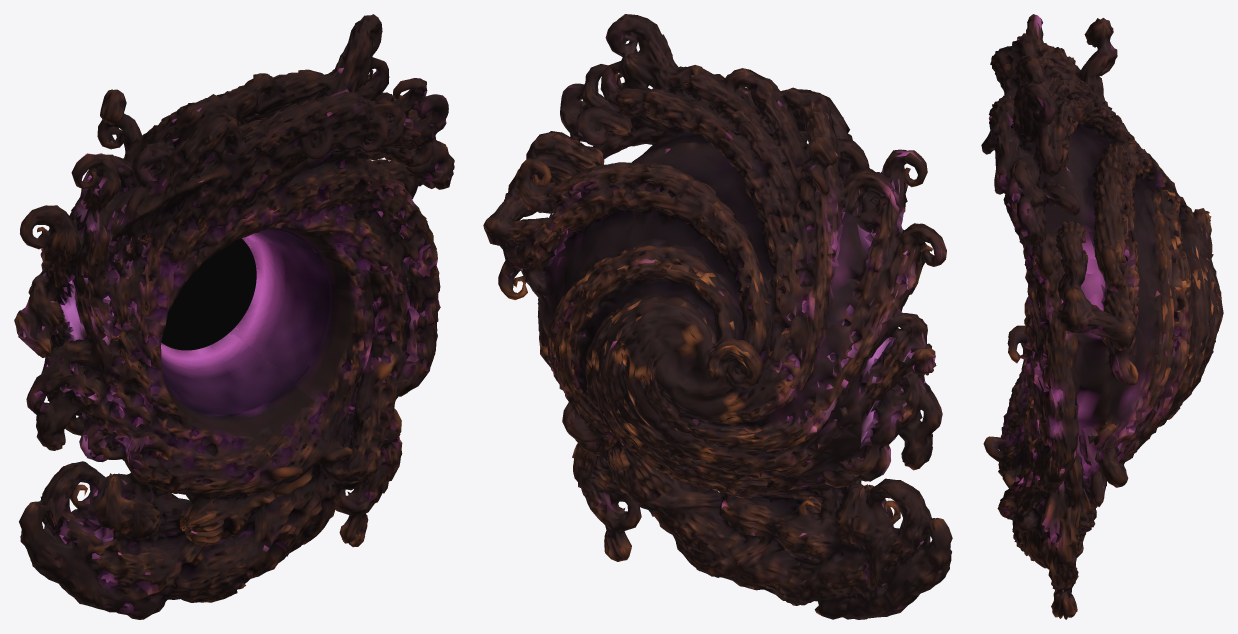
The picture shows the model from 3 angles, left to right: view 1: azimuth 30°, elevation 25°; view 2: azimuth 150°, elevation 25°; view 3: azimuth 270°, elevation 25°; orthographic projection.
Visible parts, largest first — view 1: BlackHole_Structure; view 2: BlackHole_Structure; view 3: BlackHole_Structure.
Boxes of the visible parts, bbox=[...] form: BlackHole_Structure: bbox=[14, 14, 454, 619]; BlackHole_Structure: bbox=[483, 14, 952, 619]; BlackHole_Structure: bbox=[981, 14, 1223, 619].
Bounding box in the file's own units: 100 × 120 × 48.
3 materials, 2 textured.
